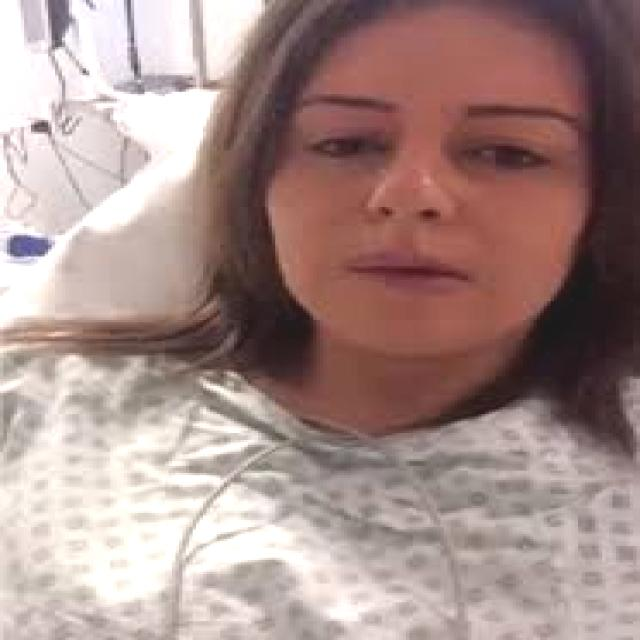normal_face: (202, 39, 634, 376)
